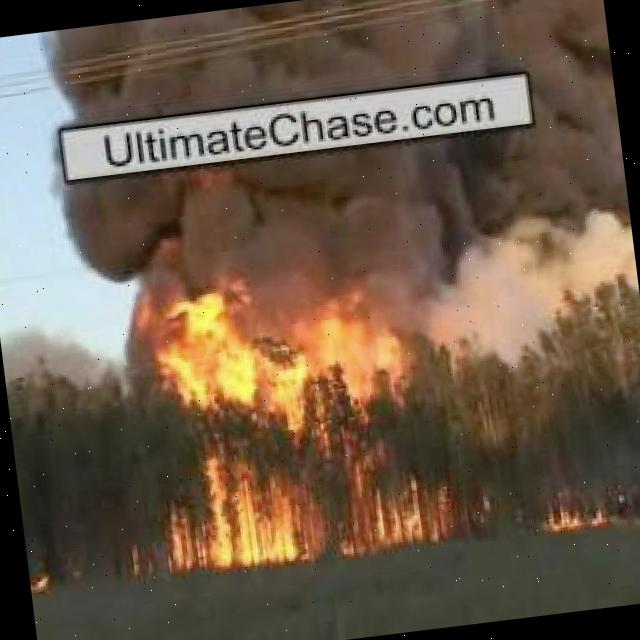fire: (144, 269, 452, 577), (535, 492, 629, 536)
